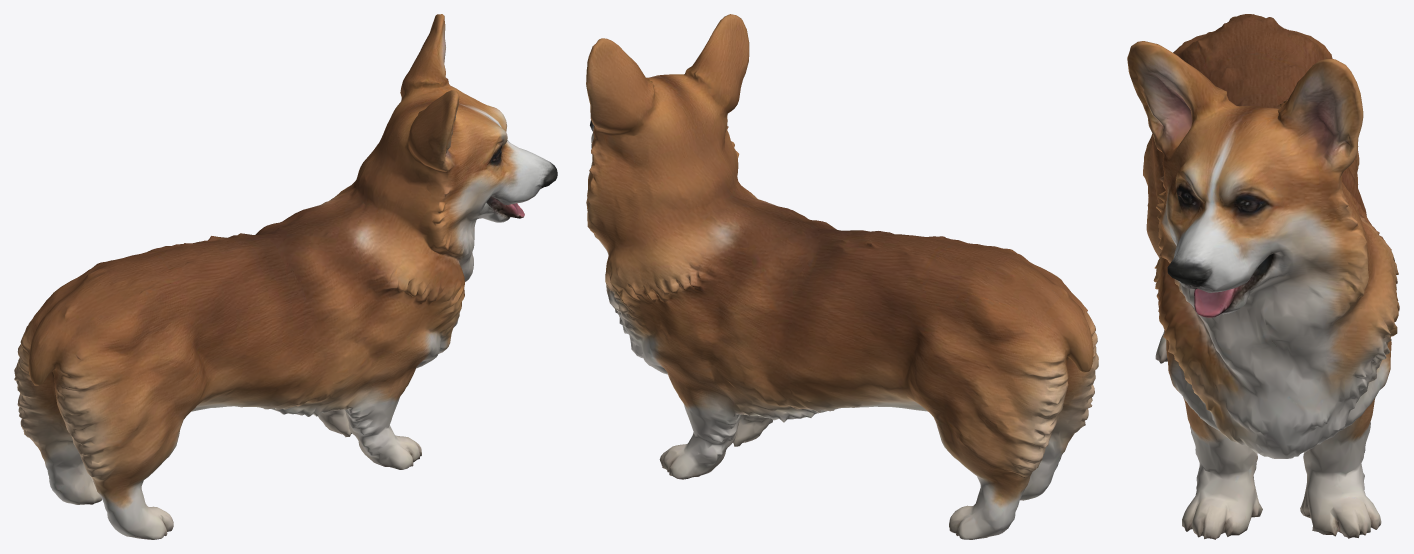
Rendered from day2.glb.
The picture shows the model from 3 angles, left to right: view 1: azimuth 30°, elevation 25°; view 2: azimuth 150°, elevation 25°; view 3: azimuth 270°, elevation 25°; orthographic projection. The views are drawn at different scales.
Parts seen in each view (by area): view 1: tripo_node_f3914c91-e0aa-4ae2-8d21-ebef18e05044; view 2: tripo_node_f3914c91-e0aa-4ae2-8d21-ebef18e05044; view 3: tripo_node_f3914c91-e0aa-4ae2-8d21-ebef18e05044.
Part boxes in pixels (x1,y1,x2,y2): tripo_node_f3914c91-e0aa-4ae2-8d21-ebef18e05044: (14, 14, 557, 539); tripo_node_f3914c91-e0aa-4ae2-8d21-ebef18e05044: (586, 14, 1098, 539); tripo_node_f3914c91-e0aa-4ae2-8d21-ebef18e05044: (1127, 14, 1399, 539).
Size of the model in its own units: 1 by 0.7431 by 0.3477.
Materials: 1 (1 with a texture image).
